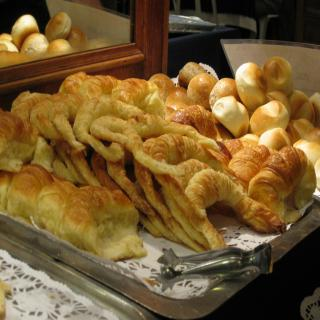Croissant: (0, 72, 286, 260), (244, 145, 318, 225)
